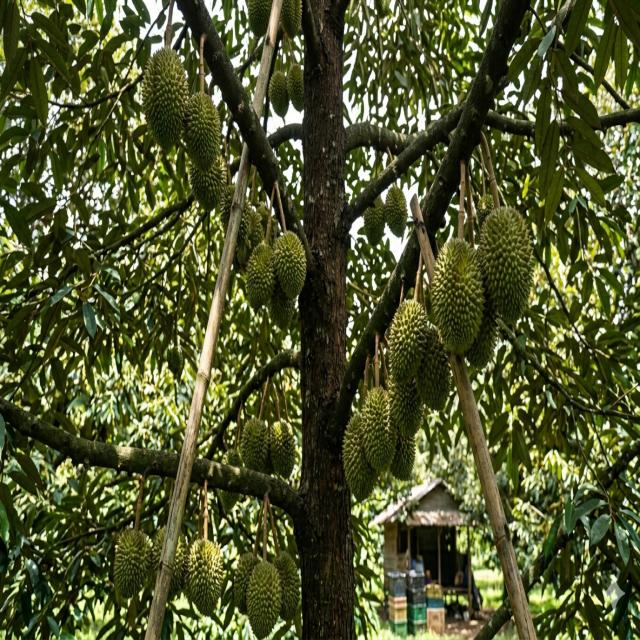immature: (478, 204, 536, 324), (429, 237, 485, 351), (140, 46, 187, 150), (387, 300, 431, 391), (412, 329, 452, 413), (358, 385, 396, 473), (184, 536, 224, 615), (342, 411, 376, 499), (112, 525, 152, 598), (185, 90, 221, 170), (246, 557, 282, 637), (390, 364, 424, 439), (272, 230, 307, 300), (188, 148, 224, 212), (271, 549, 300, 621), (246, 242, 276, 310), (233, 550, 262, 613), (239, 415, 270, 473), (162, 530, 189, 592), (270, 419, 298, 476), (389, 426, 417, 481), (221, 448, 245, 508), (383, 184, 408, 236), (269, 281, 295, 330), (242, 204, 265, 258), (362, 194, 384, 246), (268, 67, 290, 117), (247, 1, 275, 38), (149, 525, 167, 575), (280, 0, 302, 39), (287, 61, 304, 110), (476, 192, 496, 228), (256, 203, 272, 237), (167, 345, 183, 378), (237, 240, 251, 266)
